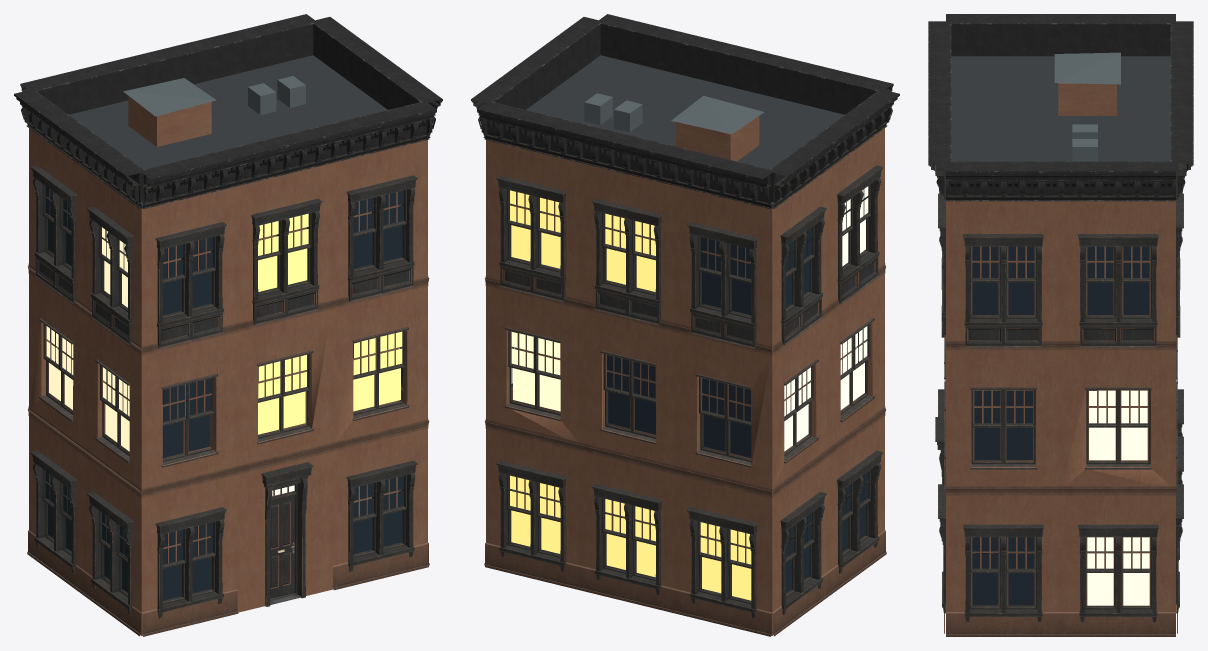
The model's file is apartment_b_detail.glb.
3 renders of one model, left to right at view 1: azimuth 30°, elevation 25°; view 2: azimuth 150°, elevation 25°; view 3: azimuth 270°, elevation 25°, orthographic.
Visible parts, largest first — view 1: Apartment_B; view 2: Apartment_B; view 3: Apartment_B.
Part boxes in pixels (left/top/right/bottom): Apartment_B: left=14, top=14, right=442, bottom=636; Apartment_B: left=471, top=14, right=899, bottom=636; Apartment_B: left=928, top=14, right=1193, bottom=636.
Bounding box in the file's own units: 6.96 × 9.8 × 4.96.
Materials: 9 (4 with a texture image).
